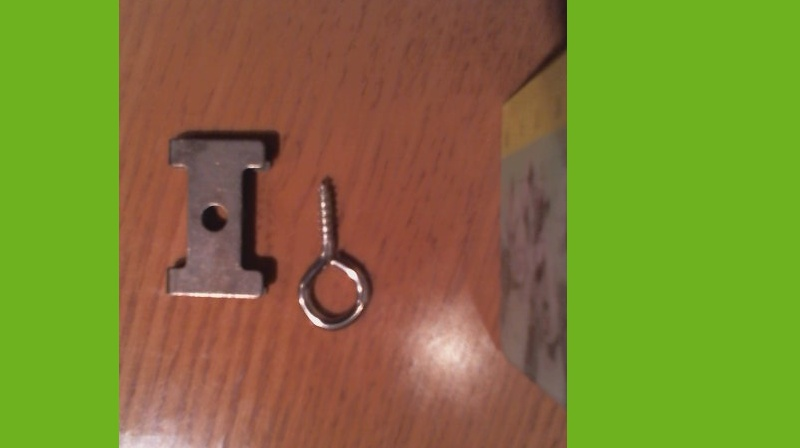O001: (294, 170, 370, 334)
O002: (160, 129, 278, 302)
